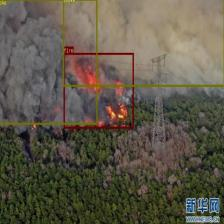fire: (64, 53, 134, 128)
smoke: (62, 0, 224, 86), (0, 0, 97, 124)
